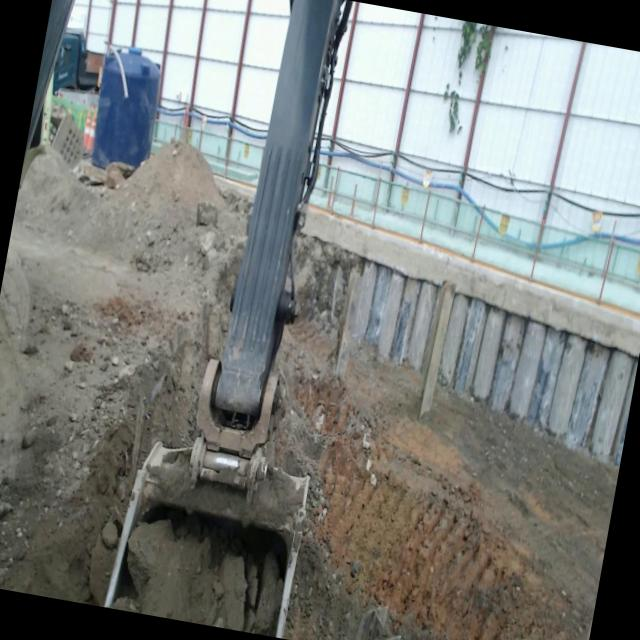red-sand: (275, 315, 619, 640), (0, 423, 132, 605)
